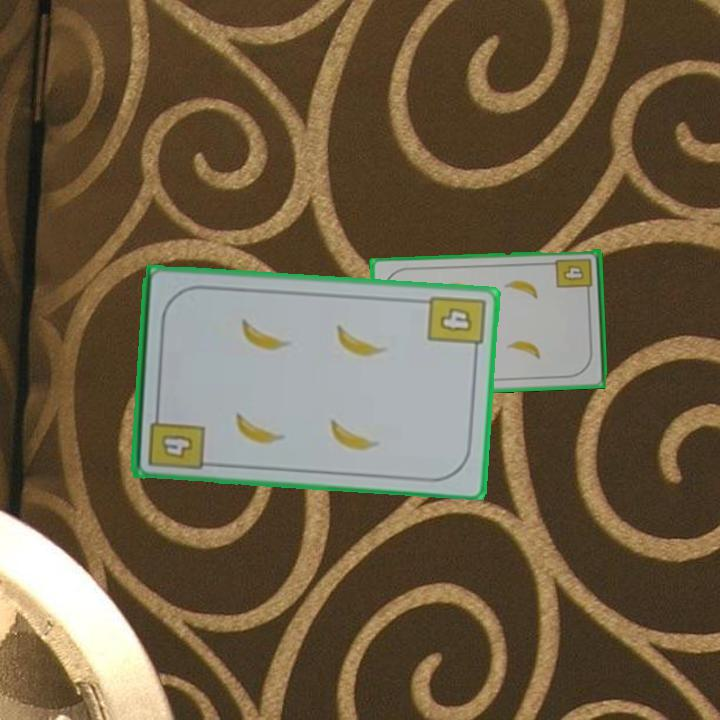4b: (424, 291, 488, 358), (144, 405, 207, 473), (553, 255, 596, 298)
